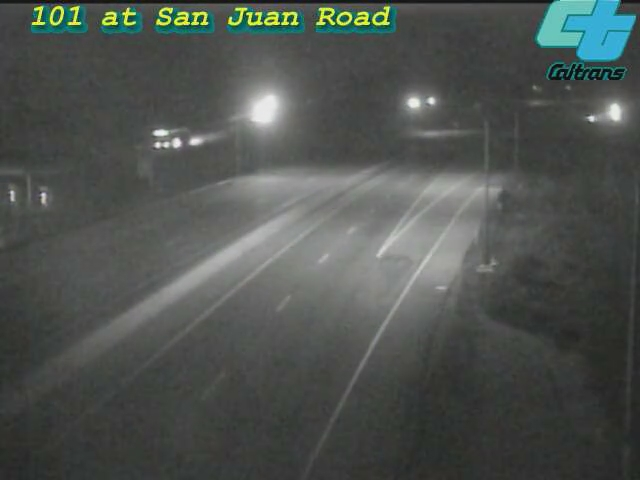vehicle: (585, 86, 635, 136)
